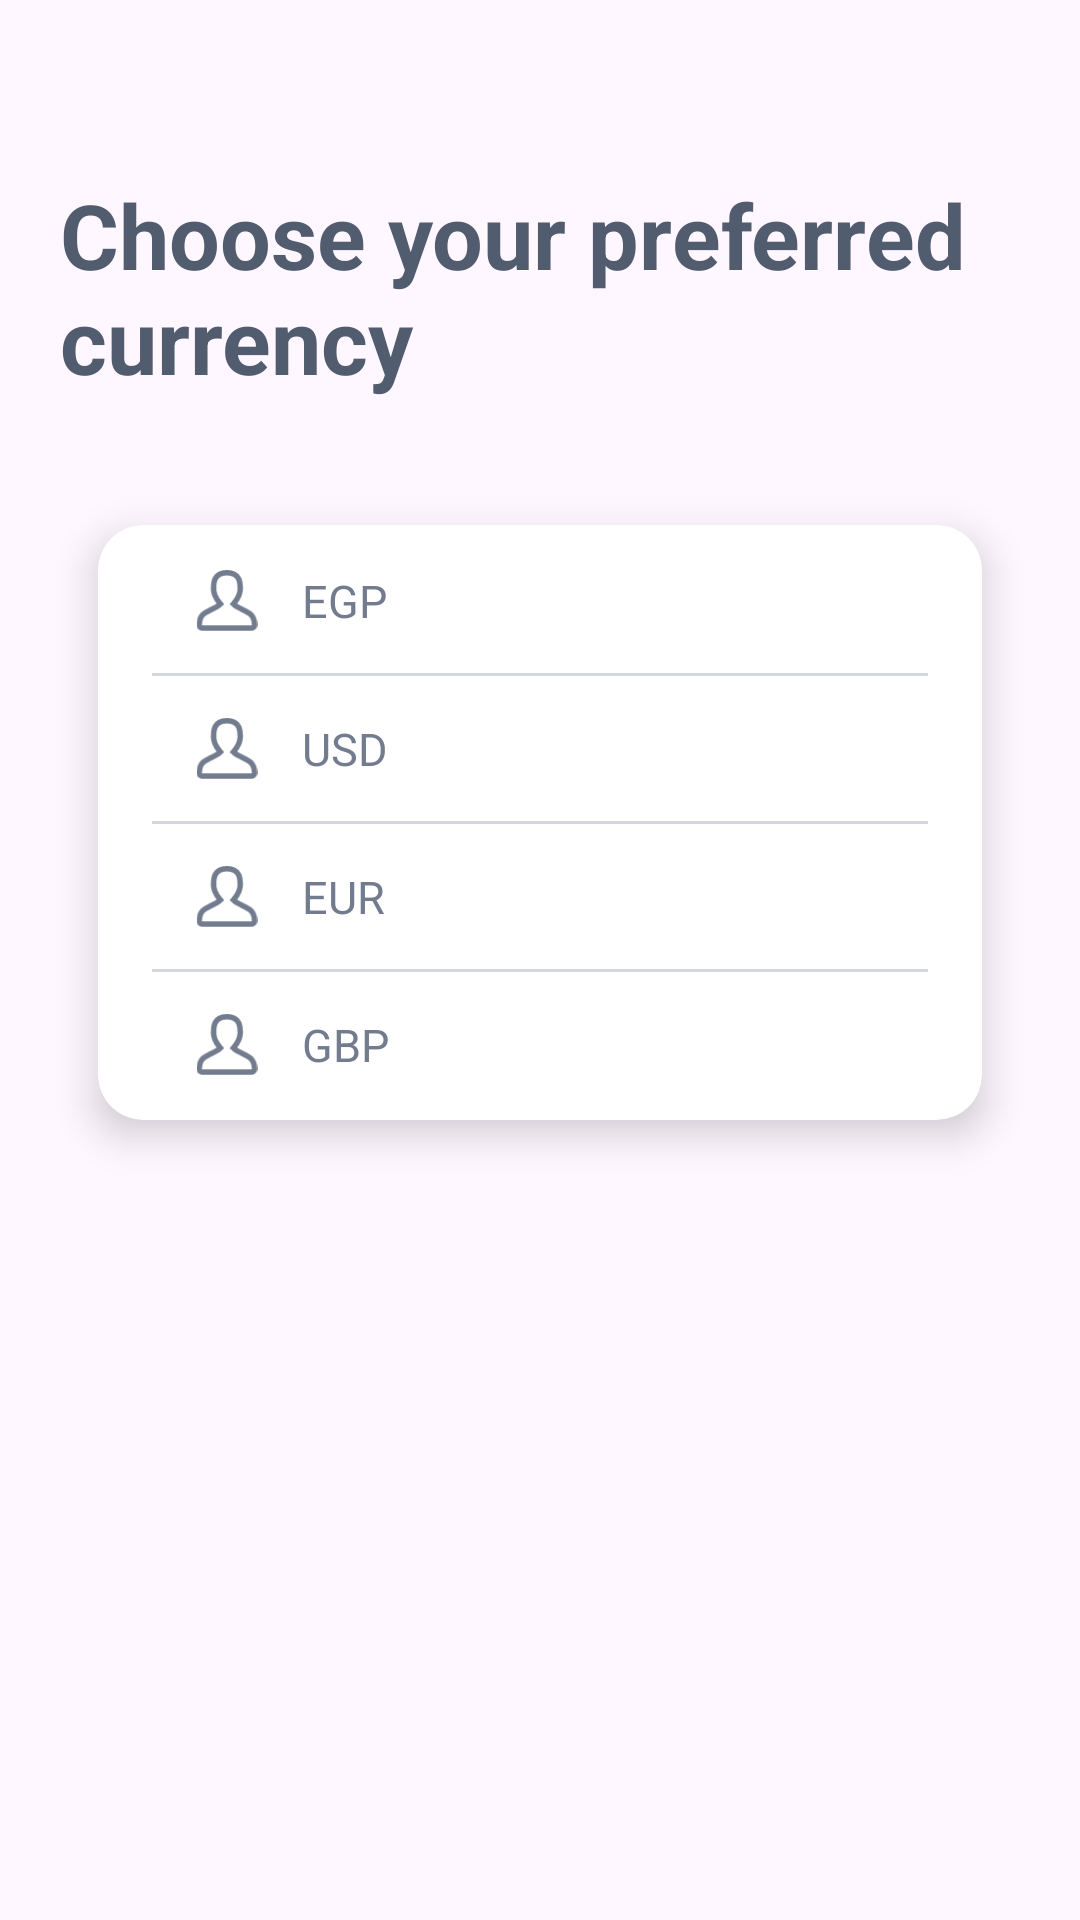

Where to tap for icons on this 1080×1920 app screen, as (x,y):
username: (227,600), (227,748), (227,896), (227,1044)
